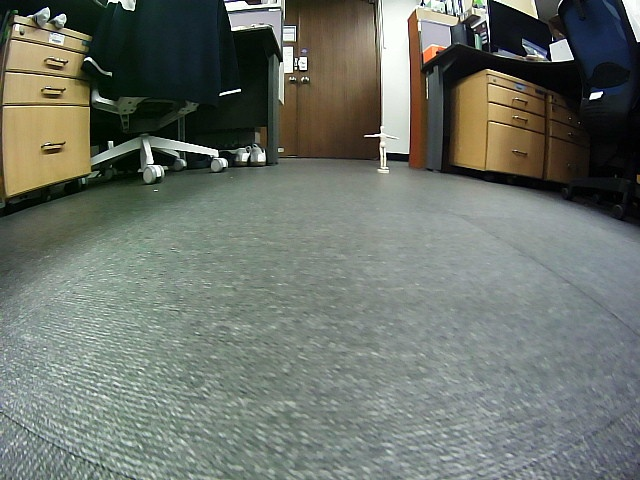person: (363, 125, 400, 170)
